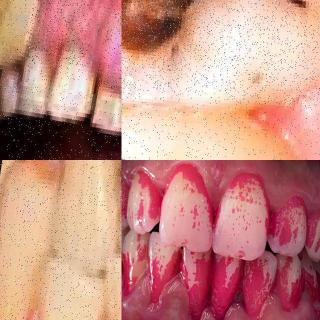Gum Swelling: (122, 275, 190, 320), (38, 0, 90, 57), (94, 0, 122, 90)
cavities: (121, 0, 318, 106)
